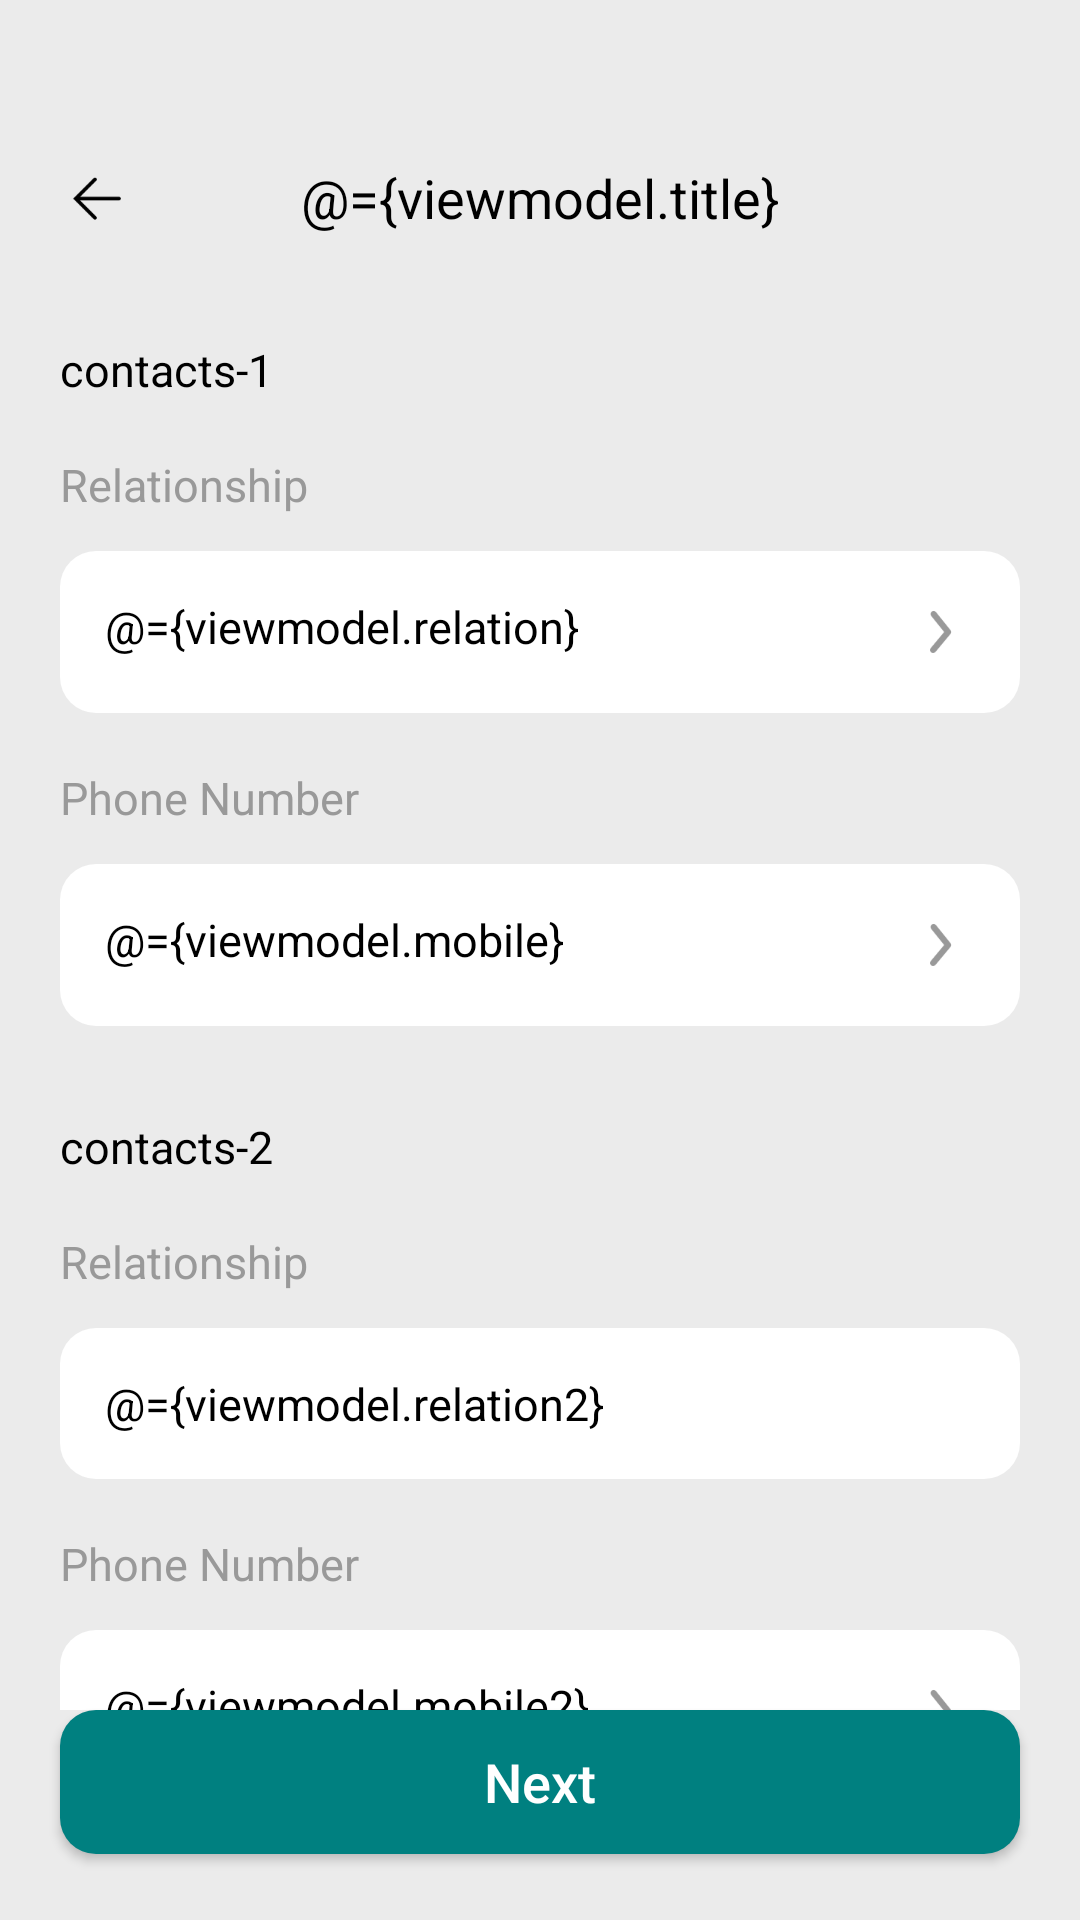

Named icons in this screenshot (1080×1920) and their centers, (x,y):
back: (97,198)
